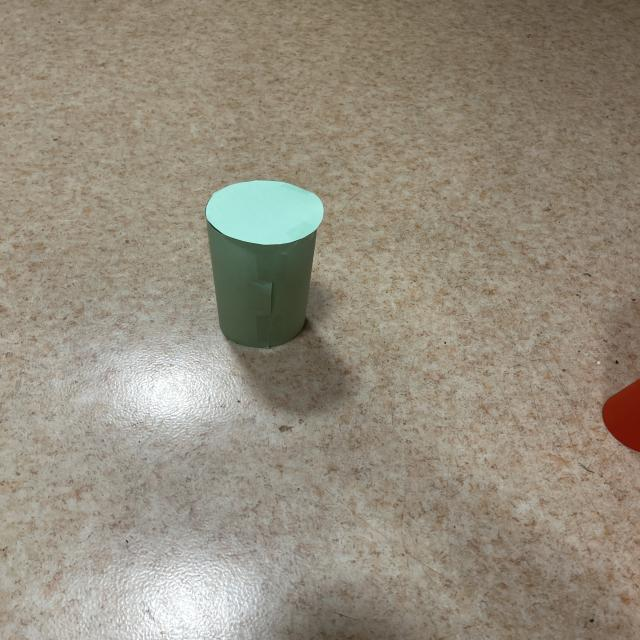meta: (206, 181, 323, 349)
